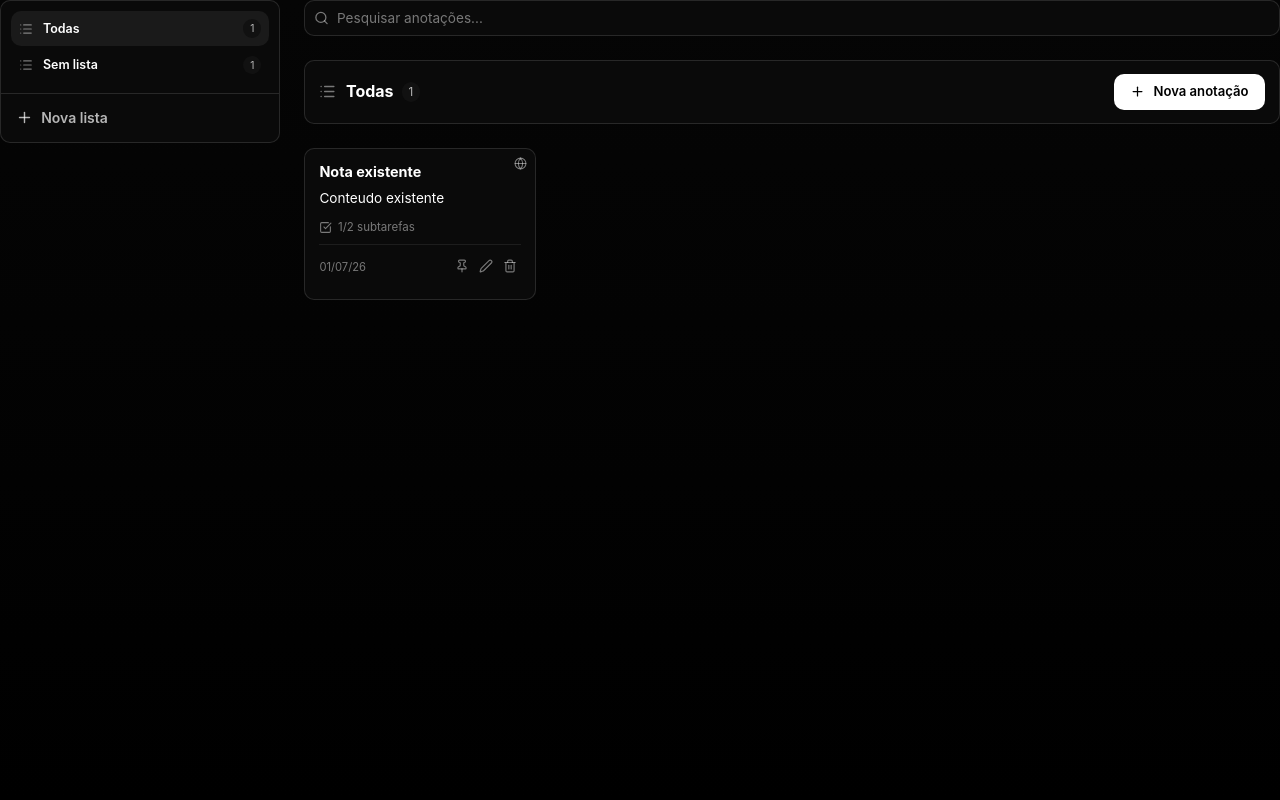
Test case: Notes Page › lists subtasks and their progress inside the note detail view
The image size is (1280, 800).
Click the text "Nota existente" at {"x": 370, "y": 172}, box [319,163,421,180]
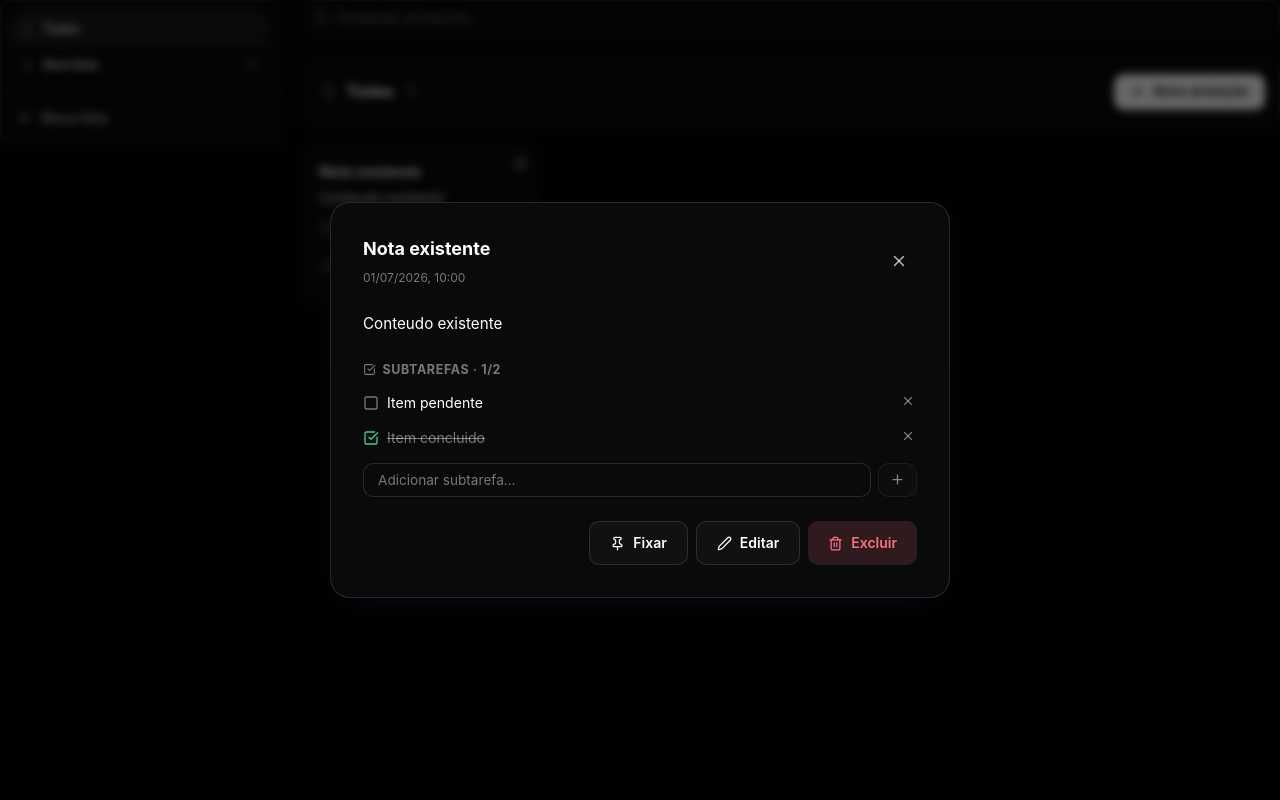
Check: the text "Item pendente" is shown, box [387,394,483,411]
Check: the text "Item concluido" is shown, box [387,429,485,446]
Check: the text "Subtarefas · 1/2" is shown, box [363,362,501,377]
